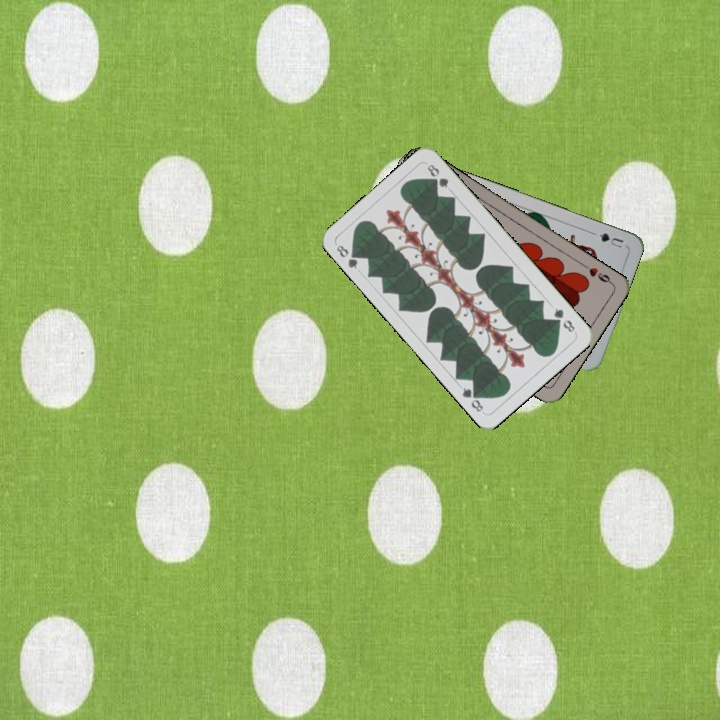G8: (332, 241, 363, 271), (550, 304, 578, 336)
GU: (589, 228, 626, 251)
H9: (579, 260, 615, 287)
